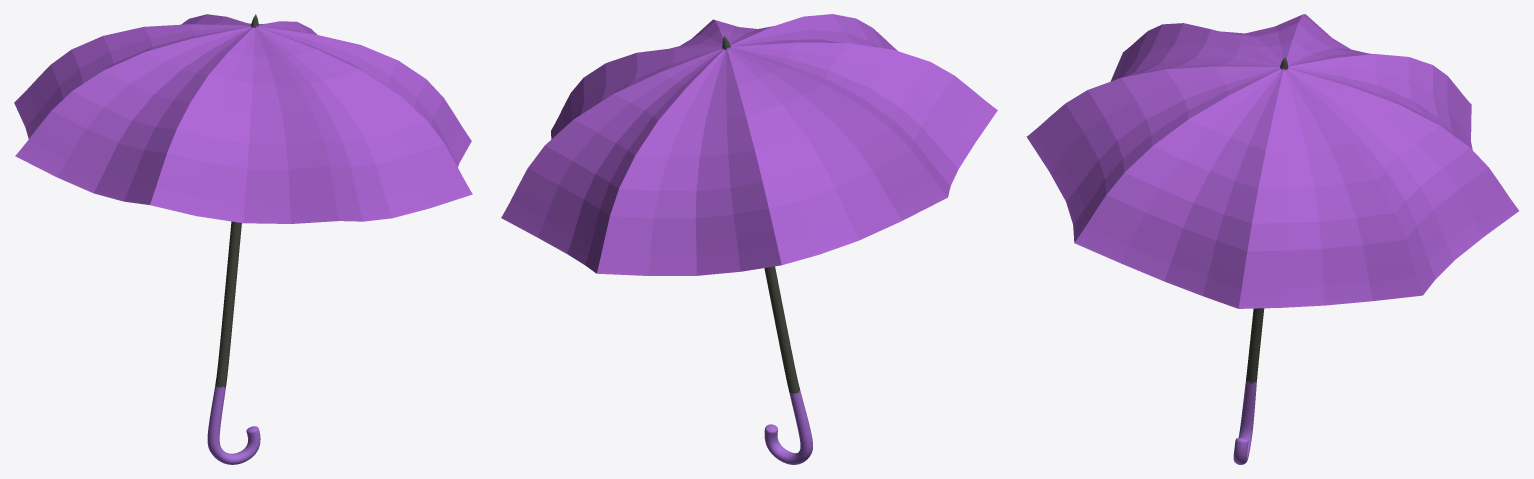
The model's file is umbrella.glb.
The picture shows the model from 3 angles, left to right: view 1: azimuth 30°, elevation 25°; view 2: azimuth 150°, elevation 25°; view 3: azimuth 270°, elevation 25°; orthographic projection. The views are drawn at different scales.
Visible parts, largest first — view 1: node_id8, node_id11; view 2: node_id8, node_id11; view 3: node_id8, node_id11.
Boxes of the visible parts, x1,y1,x2,y2 form: node_id8: (14, 14, 472, 464); node_id11: (215, 14, 258, 388); node_id8: (501, 14, 997, 464); node_id11: (722, 36, 800, 394); node_id8: (1027, 14, 1518, 464); node_id11: (1246, 57, 1288, 383).
Size of the model in its own units: 0.4033 by 0.3866 by 0.4058.
Materials: 2 (2 with a texture image).
